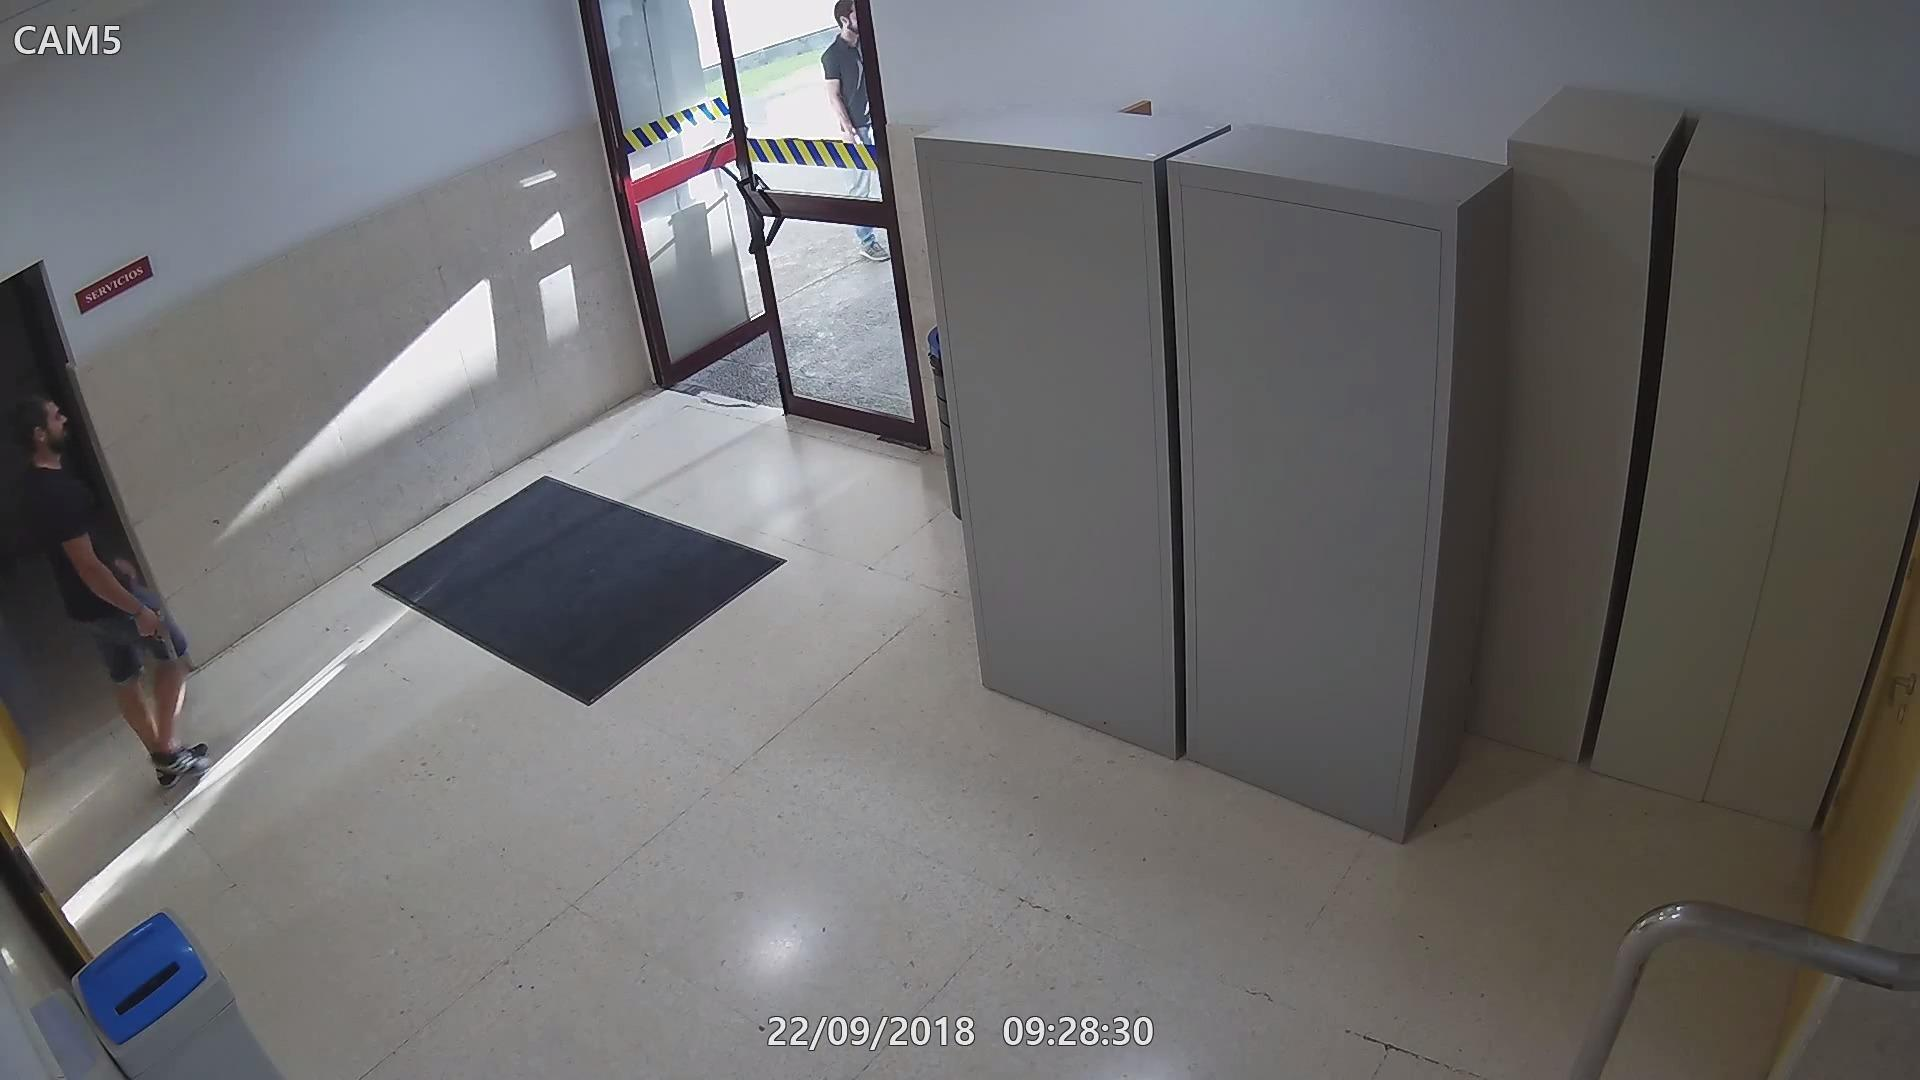Handgun: (125, 596, 179, 662)
